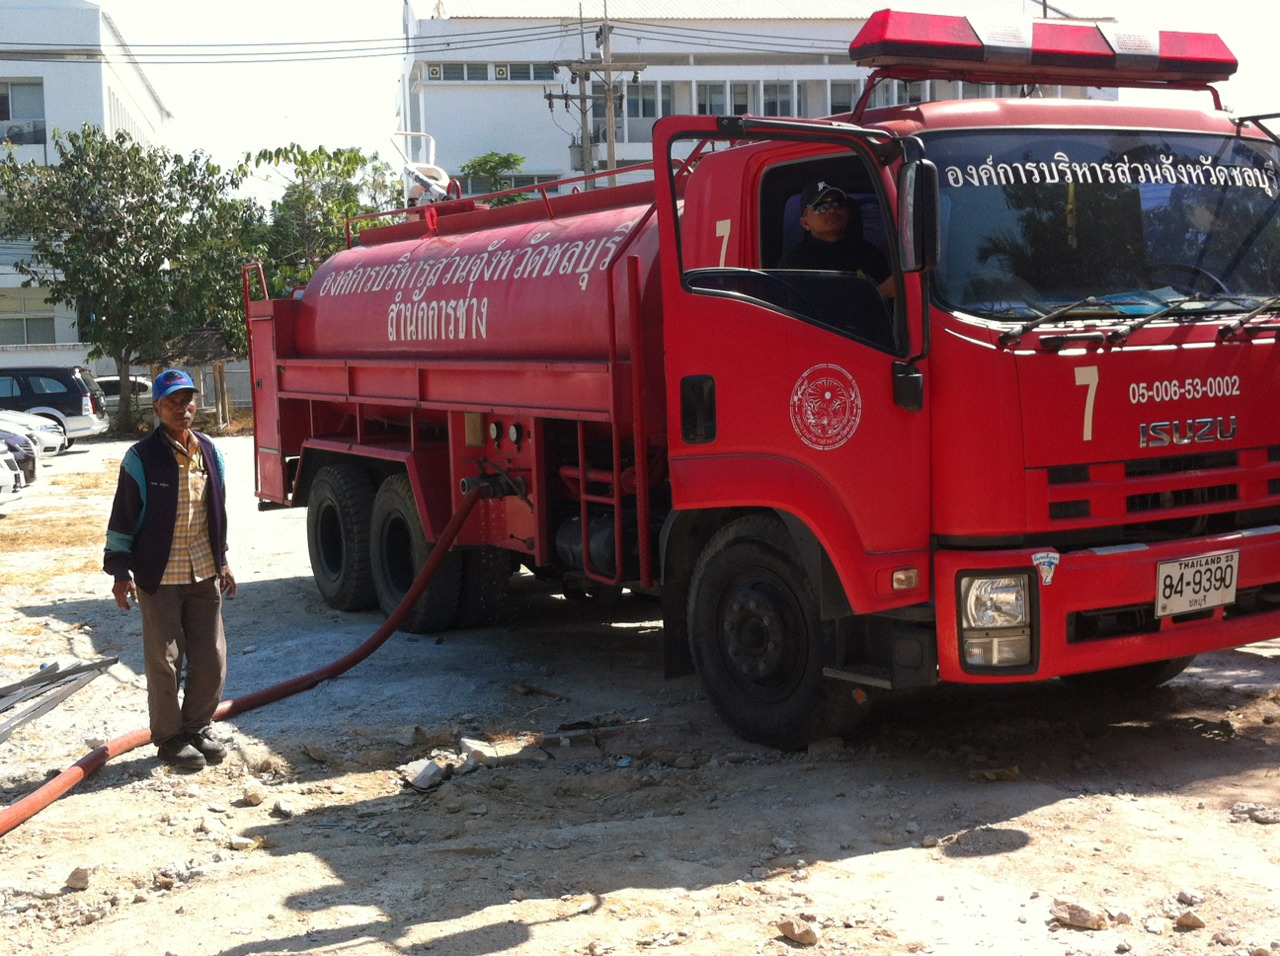truck: (245, 102, 1275, 737)
